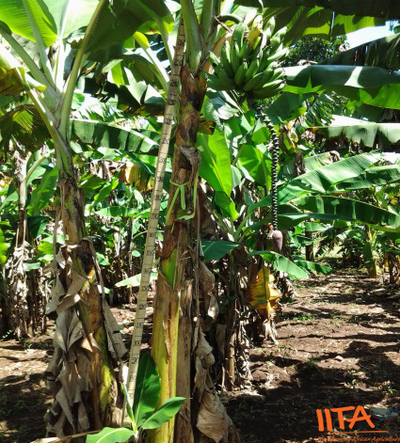bananaHand: (199, 12, 301, 99)
